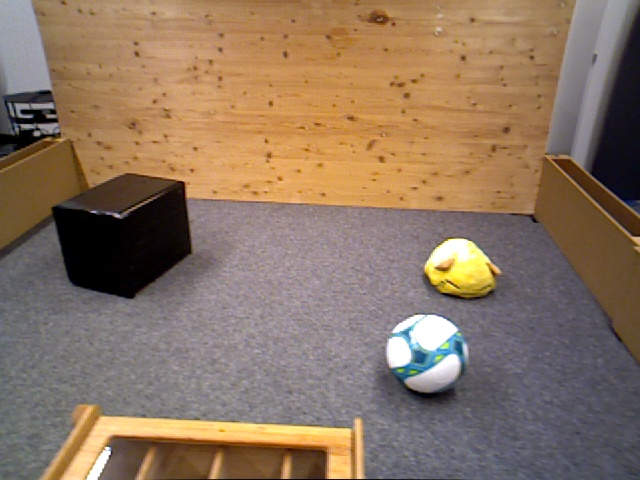grasp: (424, 237, 500, 298)
kick: (386, 314, 469, 398)
push: (49, 173, 194, 301)
